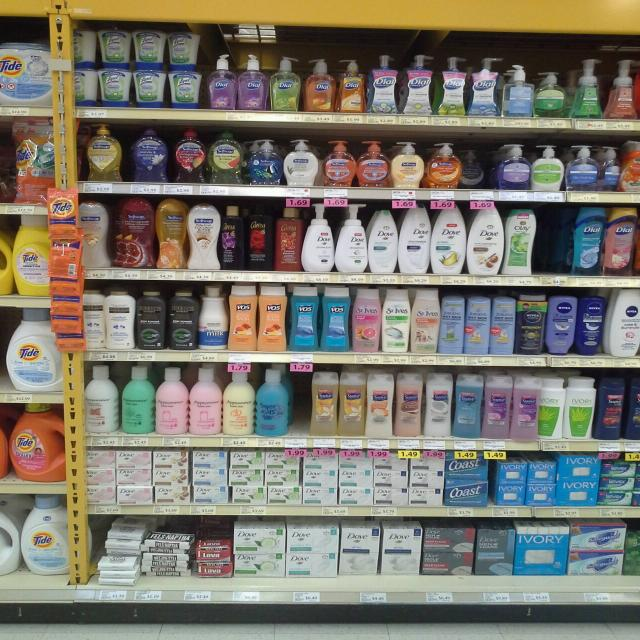void: (538, 206, 566, 278)
